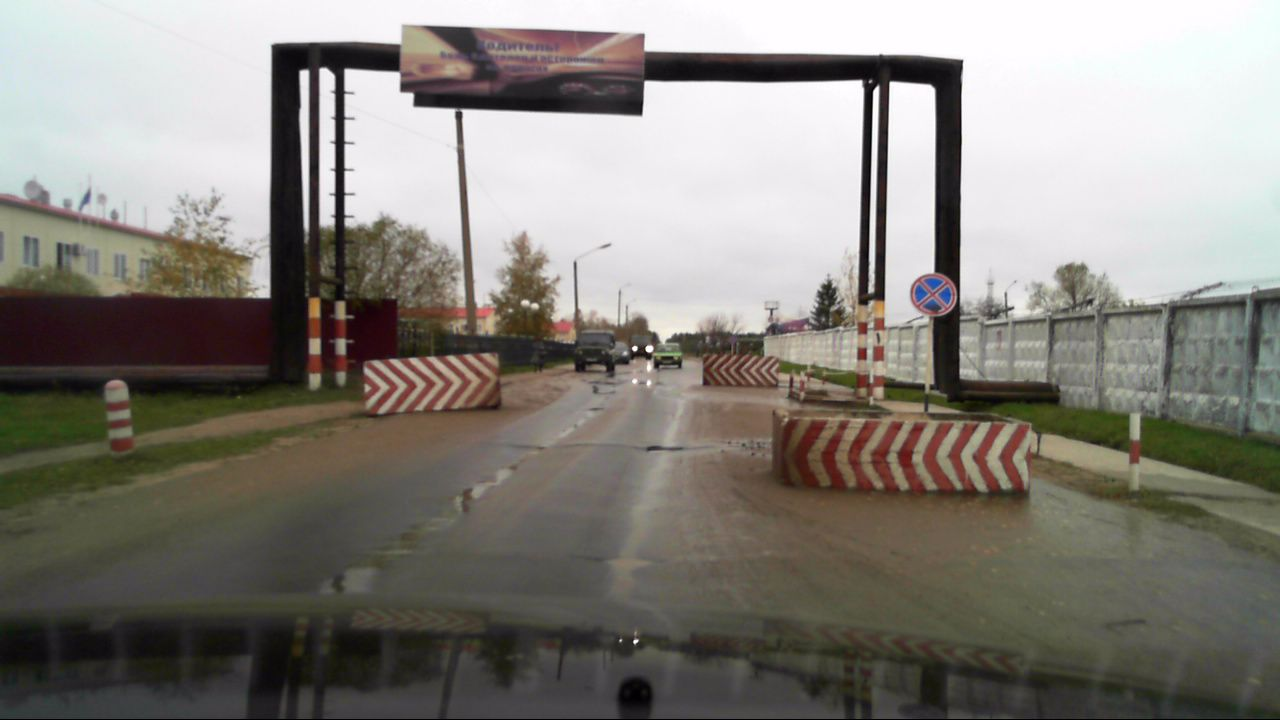No Parking: (910, 273, 957, 316)
